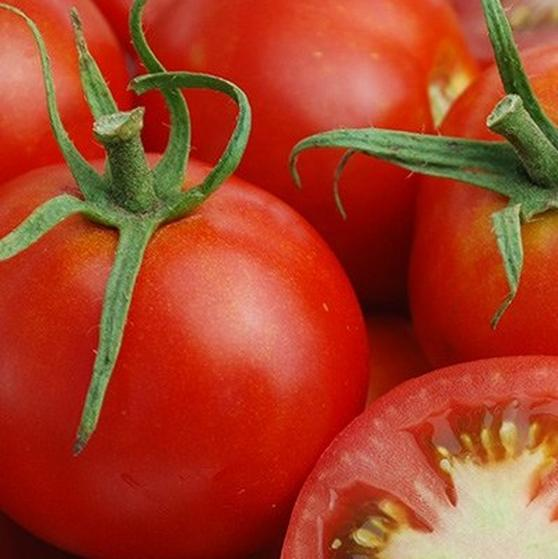tomato: (3, 8, 373, 551)
